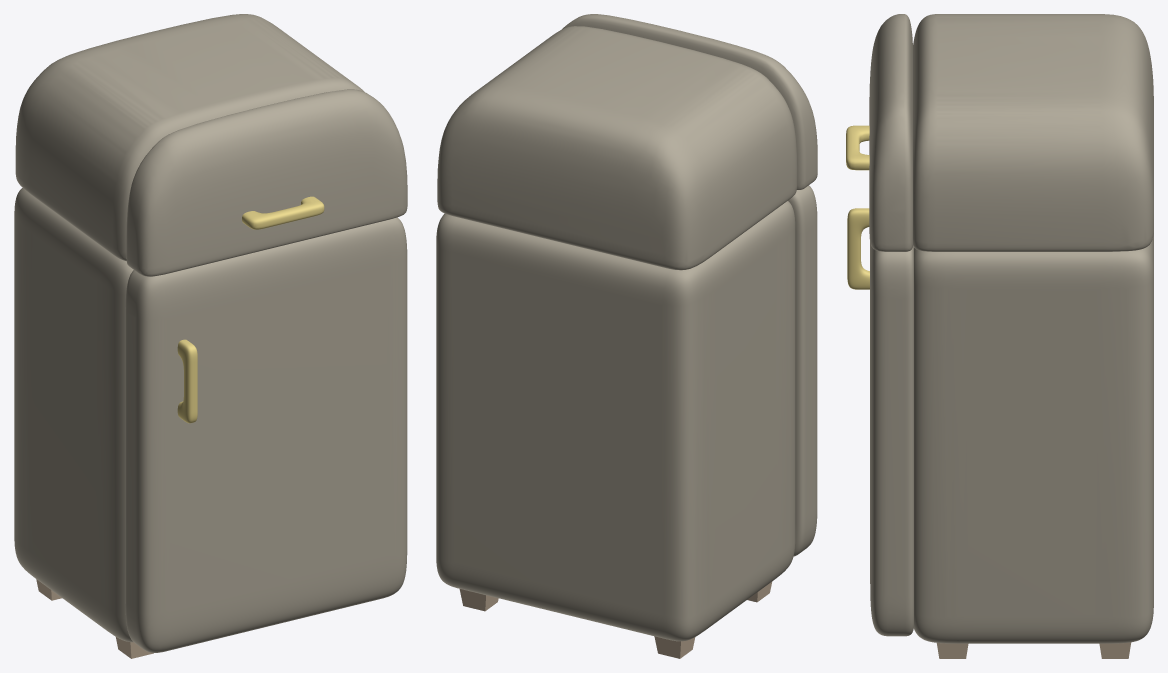
File: fridge.glb
3 renders of one model, left to right at view 1: azimuth 30°, elevation 25°; view 2: azimuth 150°, elevation 25°; view 3: azimuth 270°, elevation 25°, orthographic. The views are drawn at different scales.
Parts seen in each view (by area): view 1: Fridge.003, Fridge, Fridge.001, Fridge.002, 큐브.001, 큐브; view 2: Fridge, Fridge.001, Fridge.003, Fridge.002, 큐브.005, 큐브.004; view 3: Fridge, Fridge.001, Fridge.003, Fridge.002, 큐브.001, 큐브, 큐브.004, 큐브.002.
Boxes of the visible parts, x1=… form: Fridge.003: x1=125, y1=217, x2=407, y2=652; Fridge: x1=14, y1=187, x2=133, y2=642; Fridge.001: x1=15, y1=14, x2=364, y2=260; Fridge.002: x1=126, y1=89, x2=407, y2=276; 큐브.001: x1=177, y1=339, x2=197, y2=423; 큐브: x1=242, y1=196, x2=324, y2=229; Fridge: x1=436, y1=201, x2=795, y2=641; Fridge.001: x1=437, y1=26, x2=797, y2=270; Fridge.003: x1=788, y1=185, x2=817, y2=556; Fridge.002: x1=562, y1=14, x2=817, y2=189; 큐브.005: x1=654, y1=636, x2=695, y2=658; 큐브.004: x1=459, y1=589, x2=498, y2=611; Fridge: x1=913, y1=229, x2=1153, y2=643; Fridge.001: x1=913, y1=14, x2=1153, y2=251; Fridge.003: x1=870, y1=242, x2=913, y2=636; Fridge.002: x1=869, y1=14, x2=912, y2=251; 큐브.001: x1=847, y1=208, x2=869, y2=289; 큐브: x1=846, y1=125, x2=869, y2=170; 큐브.004: x1=1099, y1=642, x2=1131, y2=658; 큐브.002: x1=936, y1=643, x2=968, y2=658.
Size of the model in its own units: 2.6 by 4.97 by 2.53.
